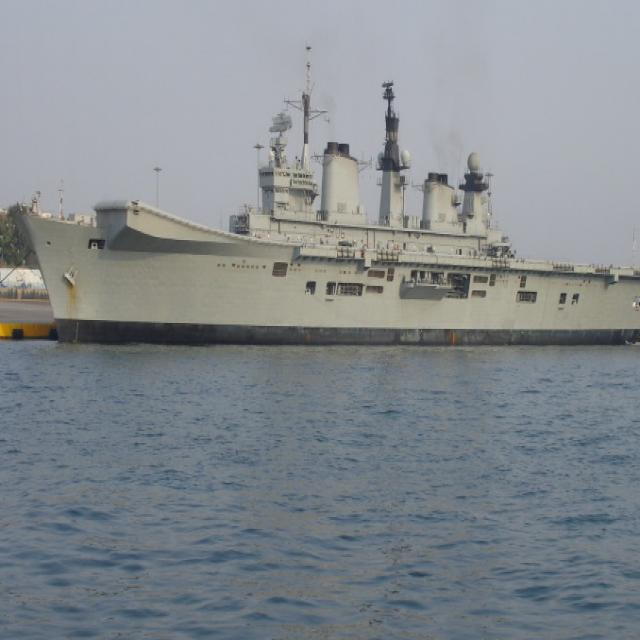Portanaves: (21, 41, 640, 351)
